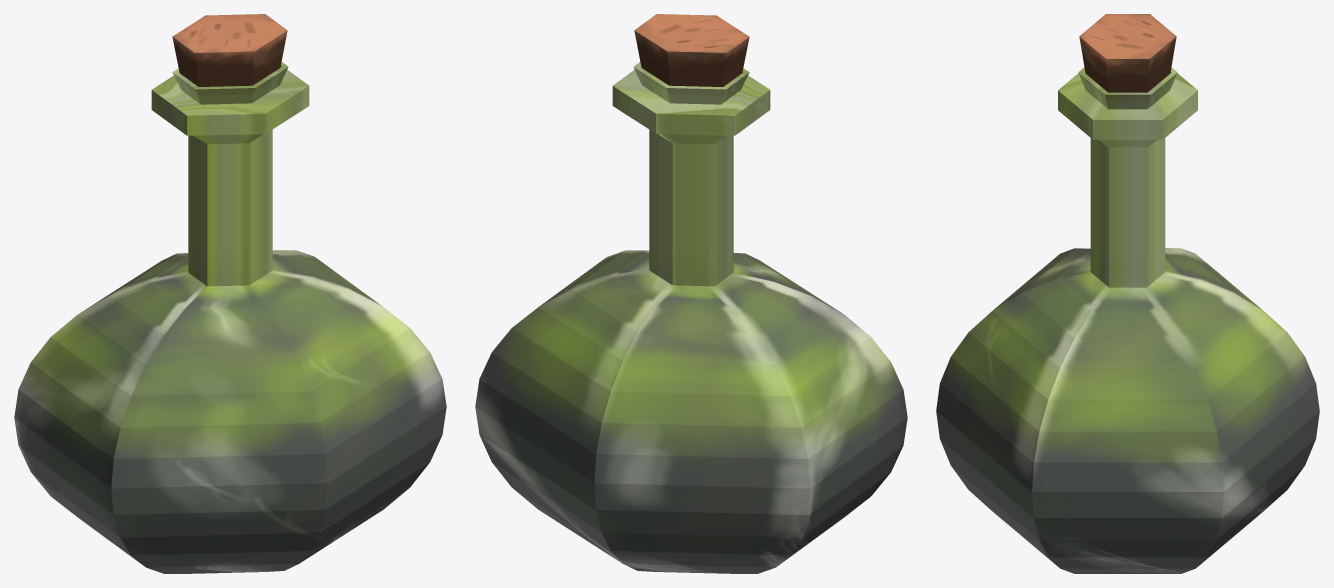
File: SM_Potion_01.fbx
3 renders of one model, left to right at view 1: azimuth 30°, elevation 25°; view 2: azimuth 150°, elevation 25°; view 3: azimuth 270°, elevation 25°, orthographic.
Parts seen in each view (by area): view 1: Envase.001; view 2: Envase.001; view 3: Envase.001.
Part boxes in pixels (x1,y1,x2,y2): Envase.001: (14, 14, 446, 573); Envase.001: (475, 14, 907, 573); Envase.001: (936, 14, 1319, 573).
Size of the model in its own units: 0.3249 by 0.4835 by 0.3256.
